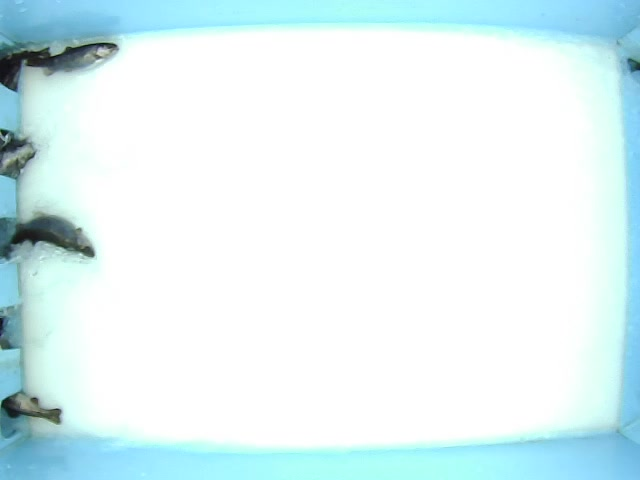fish: (9, 206, 107, 262), (41, 35, 122, 75)
